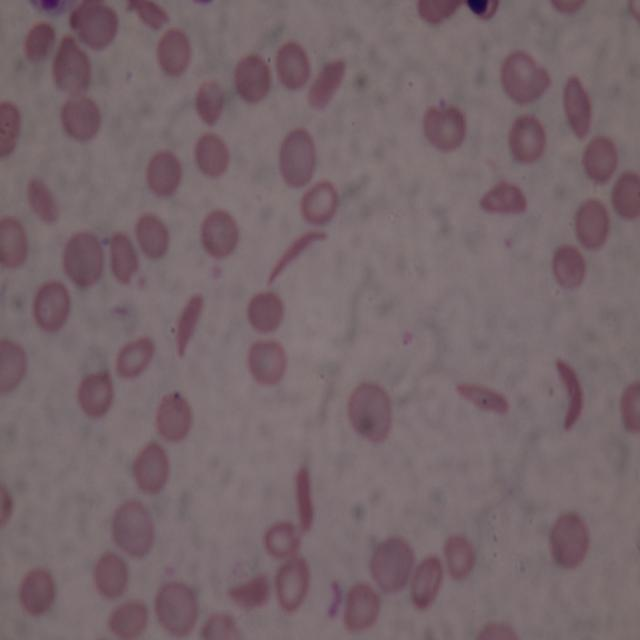Crystal: (449, 377, 513, 423), (306, 53, 348, 112), (558, 73, 594, 141), (476, 180, 530, 218), (25, 177, 61, 230), (296, 462, 318, 537), (225, 576, 271, 611), (130, 0, 170, 39)
Normal: (510, 114, 547, 165), (302, 177, 338, 224)
Others: (345, 375, 396, 446), (104, 496, 159, 560), (368, 532, 414, 596), (502, 50, 552, 106), (154, 577, 200, 637), (53, 33, 93, 101), (547, 511, 590, 573), (77, 1, 124, 54), (130, 439, 172, 497), (243, 334, 288, 388), (276, 127, 317, 186), (61, 231, 105, 285), (31, 281, 74, 334), (110, 332, 158, 379), (423, 103, 468, 153), (572, 196, 610, 254), (154, 391, 194, 446), (441, 530, 480, 585), (102, 599, 154, 639), (145, 149, 185, 201), (200, 206, 238, 260), (18, 564, 57, 616), (339, 582, 382, 629), (76, 370, 116, 420), (413, 555, 448, 612), (233, 54, 271, 104), (134, 212, 172, 261), (0, 336, 28, 402), (276, 560, 312, 611), (245, 289, 284, 335), (262, 520, 306, 559), (193, 132, 230, 178), (155, 29, 192, 75), (585, 135, 618, 186), (63, 98, 103, 138), (94, 551, 130, 595), (194, 78, 227, 126), (276, 41, 308, 89), (108, 233, 138, 284), (552, 244, 585, 290), (0, 218, 29, 269), (0, 96, 22, 161), (612, 170, 640, 218), (24, 23, 56, 63), (619, 378, 640, 434)
Sickle: (267, 224, 331, 288), (550, 357, 589, 436), (172, 292, 209, 360)
